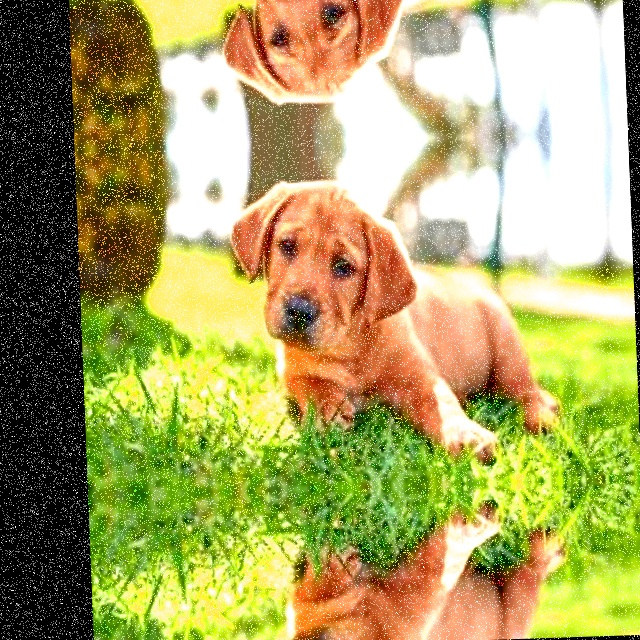dog: (228, 166, 564, 455), (242, 516, 572, 640), (221, 0, 550, 111)
